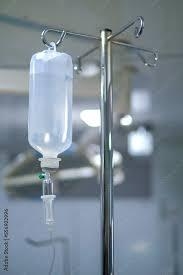Iv_Bottle: (28, 45, 72, 167)
